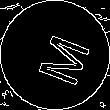M_W: (23, 24, 87, 86)
